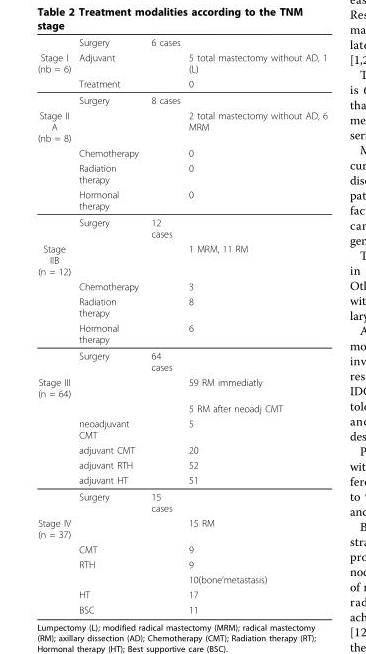table: (36, 36, 326, 614)
table column: (183, 36, 326, 614), (74, 36, 144, 614), (144, 36, 183, 614), (36, 36, 74, 614)
table column header: (36, 36, 326, 91)
table row: (36, 107, 326, 145), (36, 240, 326, 278), (36, 186, 326, 213), (36, 213, 326, 240), (36, 293, 326, 320), (36, 320, 326, 347), (36, 347, 326, 374), (36, 415, 326, 442), (36, 488, 326, 515), (36, 49, 326, 75), (36, 160, 326, 186), (36, 374, 326, 400), (36, 515, 326, 541), (36, 75, 326, 91), (36, 91, 326, 107), (36, 472, 326, 488), (36, 145, 326, 160), (36, 278, 326, 293), (36, 400, 326, 415), (36, 442, 326, 457), (36, 457, 326, 472), (36, 541, 326, 556), (36, 556, 326, 571), (36, 571, 326, 586), (36, 586, 326, 601), (36, 36, 326, 49), (36, 601, 326, 614)
table spanning cell: (183, 36, 326, 91), (36, 374, 74, 515), (36, 240, 74, 374), (36, 107, 74, 240), (74, 36, 144, 91), (36, 515, 74, 614), (144, 36, 183, 91), (36, 36, 74, 91)
